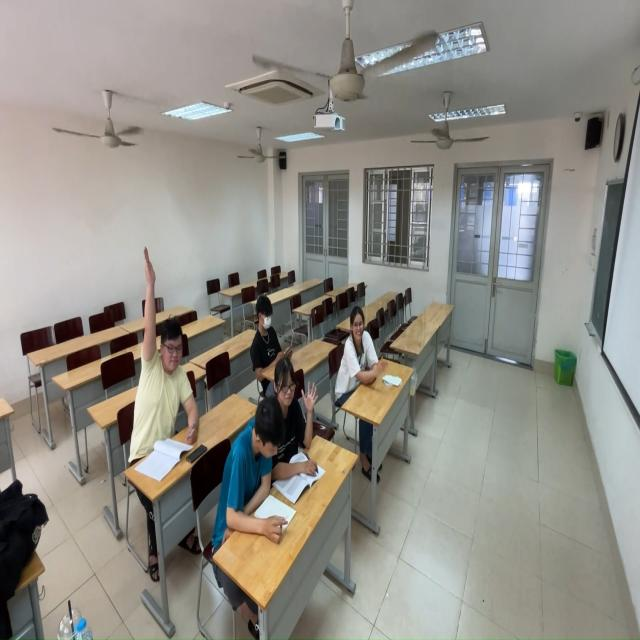raise_hand: (125, 246, 209, 468), (261, 359, 334, 484)
read: (205, 389, 301, 555), (333, 295, 399, 399), (248, 290, 304, 374)
